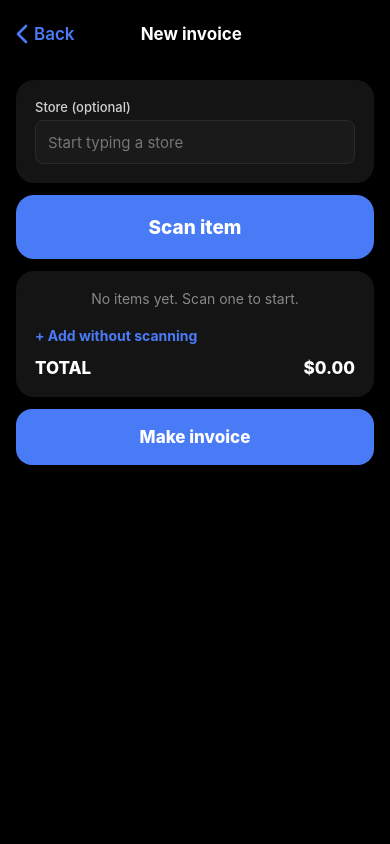
Test: EasyInvoice › a $0.00 total asks before saving
The width and height of the screenshot is (390, 844).
Click the button "+ Add without scanning" at (116, 332), box x1=35 y1=315 x2=197 y2=348
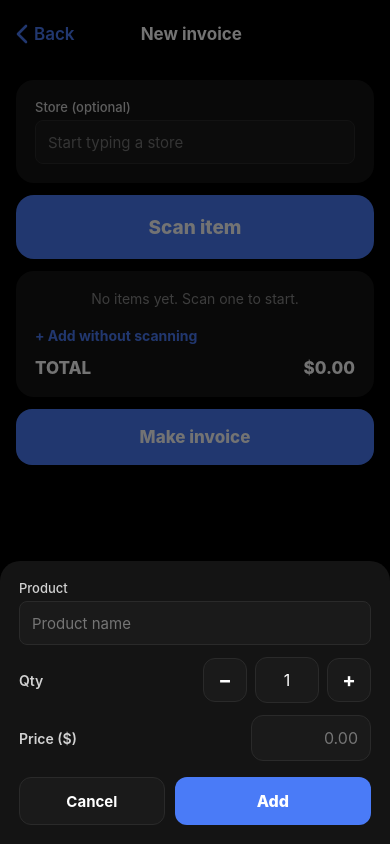
Type "Free sample" into the field with placeholder "Product name" at (195, 623), box x1=19 y1=601 x2=371 y2=645
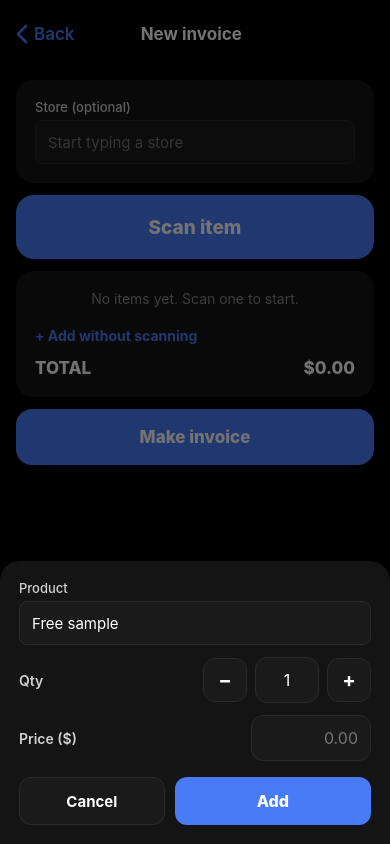
Type "0" into the number field named "Price" at (311, 738), box x1=251 y1=715 x2=371 y2=761
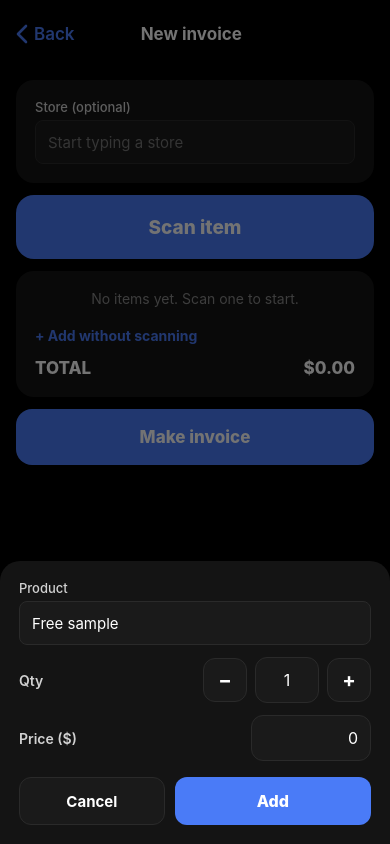
Click the button "Add" at (273, 801), box x1=175 y1=777 x2=371 y2=825
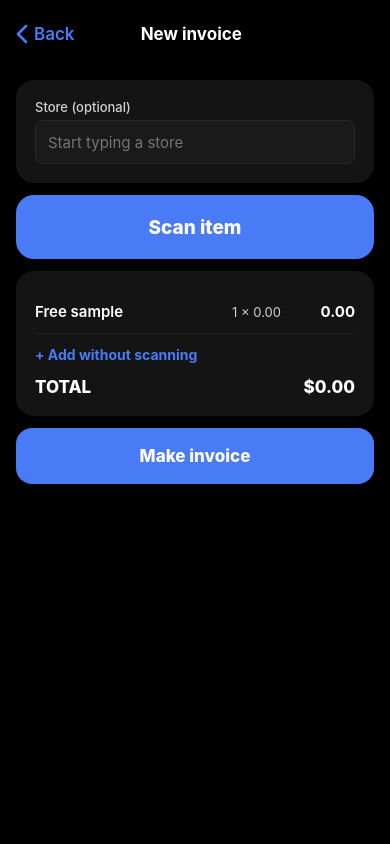
Click the button "Make invoice" at (195, 456), box x1=16 y1=428 x2=374 y2=484
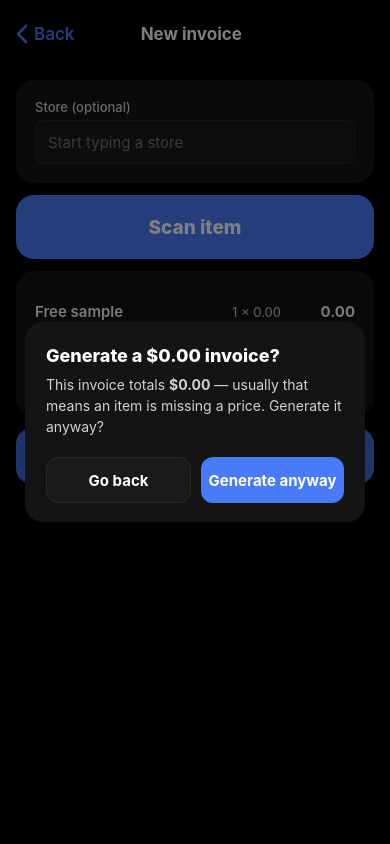
Result: the text "Generate a $0.00 invoice?" is shown at x1=46 y1=345 x2=280 y2=366
